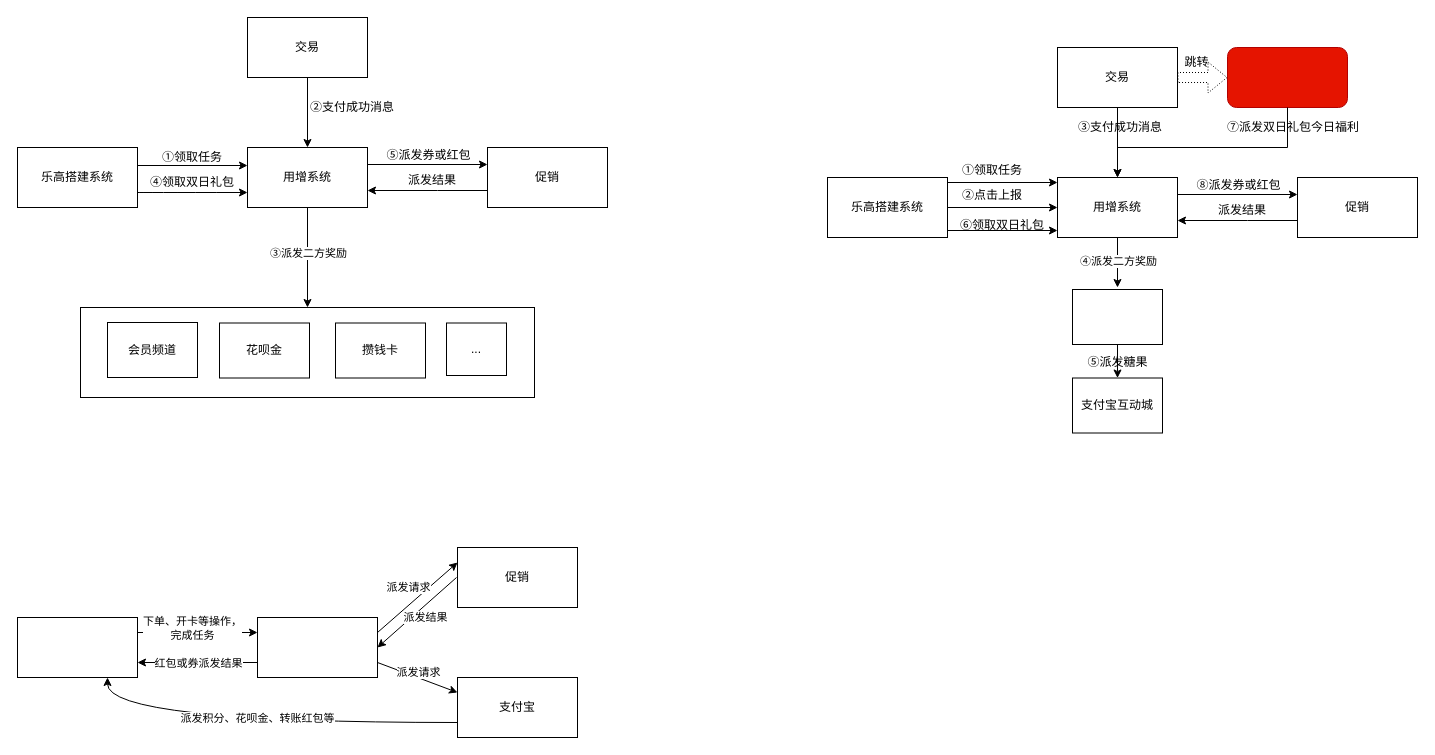
The diagram is 1435 pixels wide and 755 high, and some of its shapes have lost their labels. The shapes that lost their labels are listed below. From the top down, each one's centre as x and y in pixels, then its label:
At (x=1287, y=77): "购后弹窗".
At (x=1117, y=316): "BI".
At (x=77, y=647): "用户".
At (x=317, y=647): "用增".
